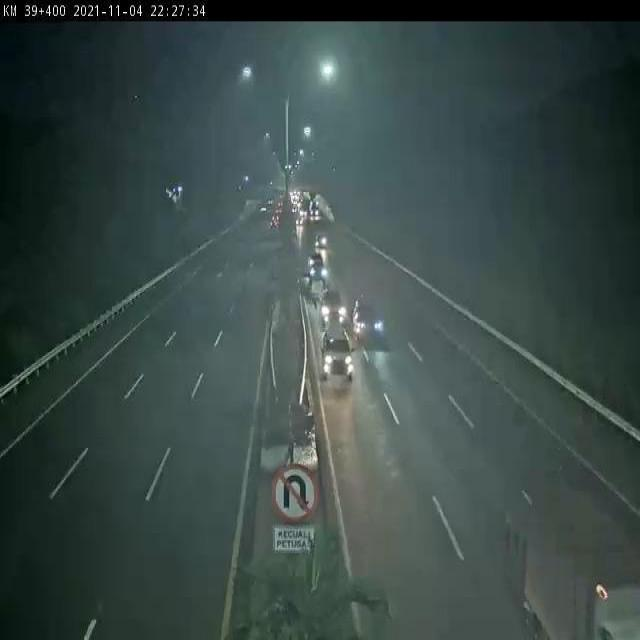car: (321, 326, 354, 378), (352, 298, 386, 342), (319, 289, 349, 327)
truck-s-: (521, 473, 640, 640)
